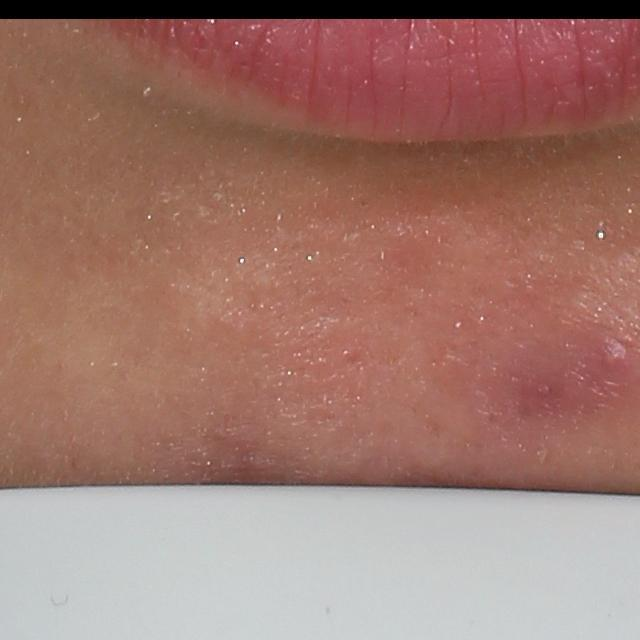papule: (596, 334, 635, 379)
